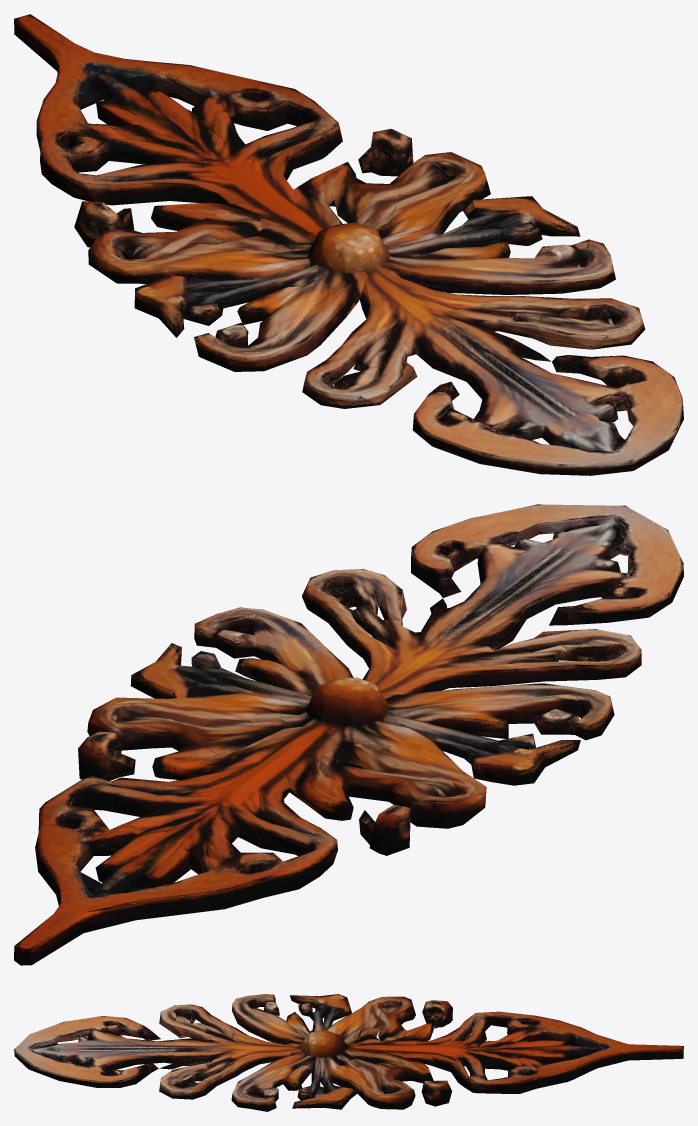
File: wooden-hairpin-3d.jpeg.glb
3 views of the same model, one above another, from view 1: azimuth 30°, elevation 25°; view 2: azimuth 150°, elevation 25°; view 3: azimuth 270°, elevation 25° (orthographic). The views are drawn at different scales.
Visible parts, largest first — view 1: world; view 2: world; view 3: world.
Part boxes in pixels (left/top/right/bottom): world: left=14, top=14, right=683, bottom=475; world: left=14, top=504, right=683, bottom=965; world: left=14, top=994, right=683, bottom=1111.
Bounding box in the file's own units: 0.3877 × 0.0533 × 1.
1 material, 1 textured.
